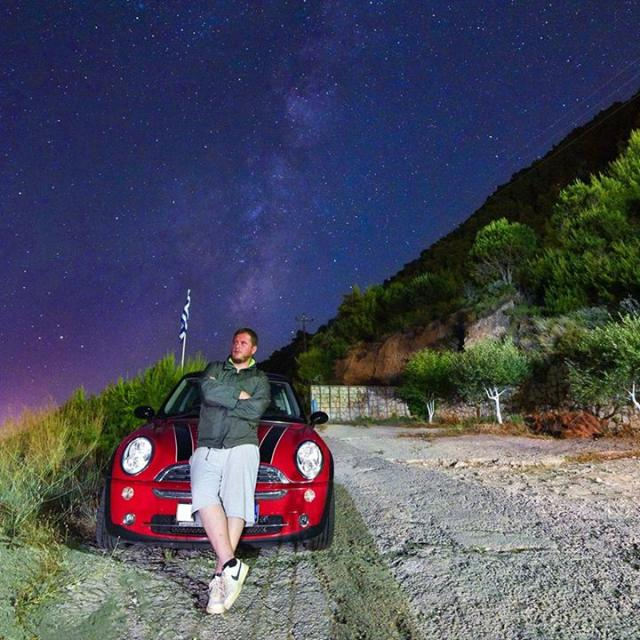adult: (190, 327, 272, 615)
